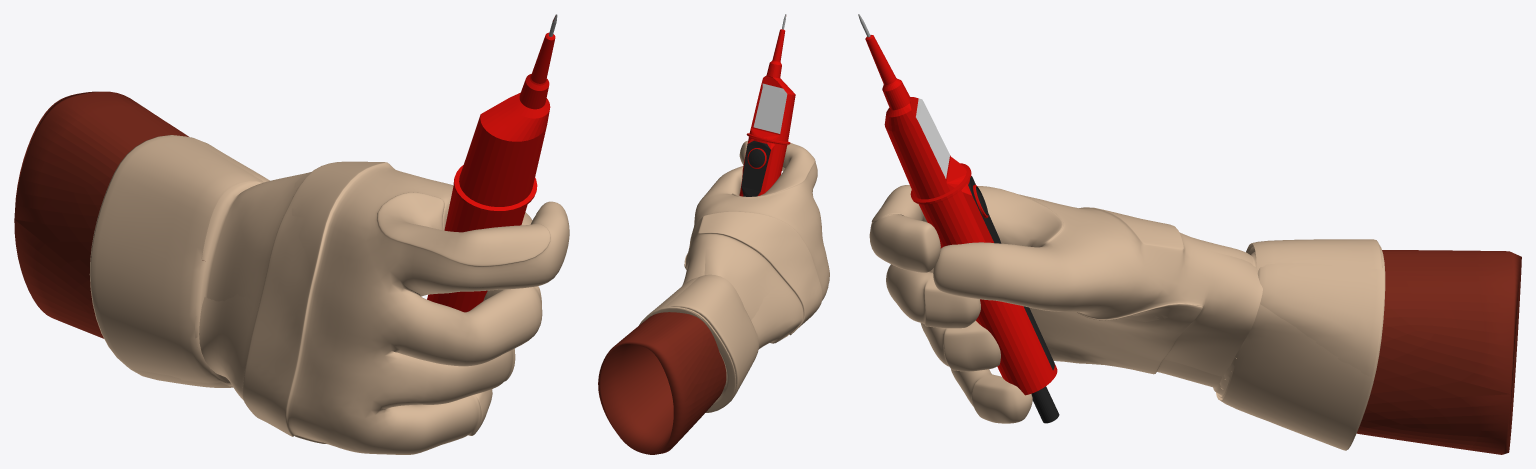
Rendered from glove-with-duspol-1.fbx.
The picture shows the model from 3 angles, left to right: view 1: azimuth 30°, elevation 25°; view 2: azimuth 150°, elevation 25°; view 3: azimuth 270°, elevation 25°; orthographic projection. The views are drawn at different scales.
Parts seen in each view (by area): view 1: WorkGloves_RightWorkGloves.002, gloves.001_Cube.002, duspol-R; view 2: WorkGloves_RightWorkGloves.002, gloves.001_Cube.002, duspol-R; view 3: WorkGloves_RightWorkGloves.002, gloves.001_Cube.002, duspol-R.
Part boxes in pixels (x1=…): WorkGloves_RightWorkGloves.002: x1=89, y1=135, x2=569, y2=454; gloves.001_Cube.002: x1=14, y1=91, x2=203, y2=338; duspol-R: x1=427, y1=14, x2=557, y2=312; WorkGloves_RightWorkGloves.002: x1=639, y1=140, x2=829, y2=412; gloves.001_Cube.002: x1=598, y1=312, x2=726, y2=454; duspol-R: x1=739, y1=14, x2=795, y2=196; WorkGloves_RightWorkGloves.002: x1=869, y1=185, x2=1385, y2=450; gloves.001_Cube.002: x1=1356, y1=250, x2=1521, y2=454; duspol-R: x1=858, y1=14, x2=1059, y2=423.
Bounding box in the file's own units: 416 × 906 × 1144.
